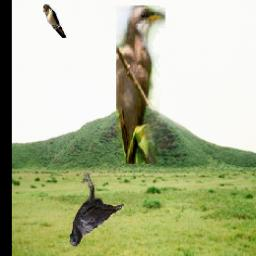Crow: (70, 172, 127, 247)
Cuckoo: (116, 5, 165, 164)
Swallow: (42, 5, 67, 39)
